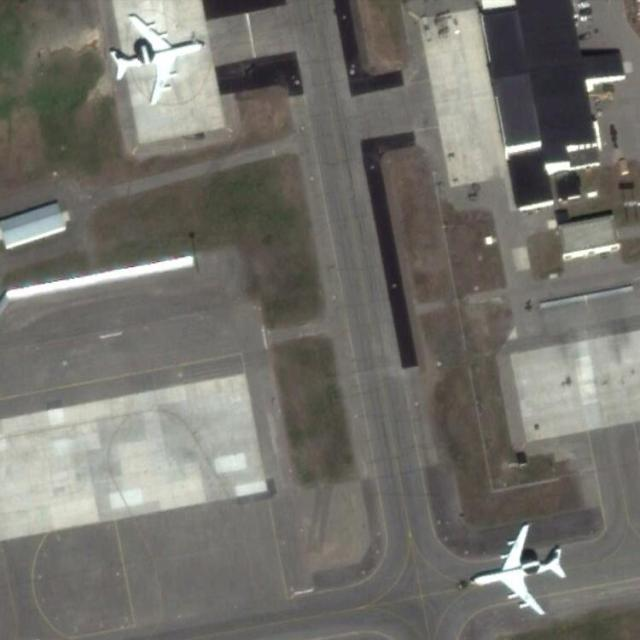fighter jet: (458, 508, 573, 626), (101, 2, 204, 106)
